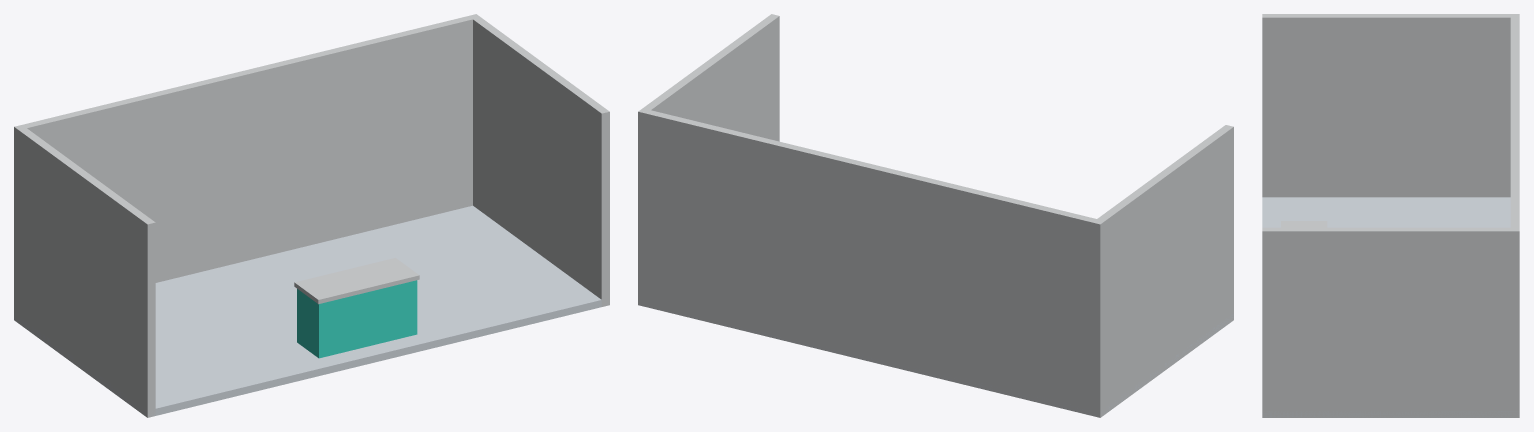
3 views of the same model, side by side, from view 1: azimuth 30°, elevation 25°; view 2: azimuth 150°, elevation 25°; view 3: azimuth 270°, elevation 25° (orthographic). The views are drawn at different scales.
Parts seen in each view (by area): view 1: Exhibition Booth Concept; view 2: Exhibition Booth Concept; view 3: Exhibition Booth Concept.
Boxes of the visible parts, x1=… form: Exhibition Booth Concept: x1=14, y1=14, x2=609, y2=417; Exhibition Booth Concept: x1=638, y1=14, x2=1233, y2=417; Exhibition Booth Concept: x1=1262, y1=14, x2=1519, y2=417.
Size of the model in its own units: 8 by 3.2 by 4.
